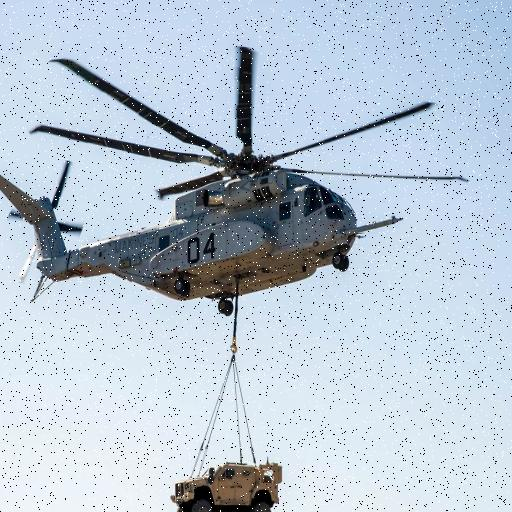helicopter: (1, 43, 474, 322)
